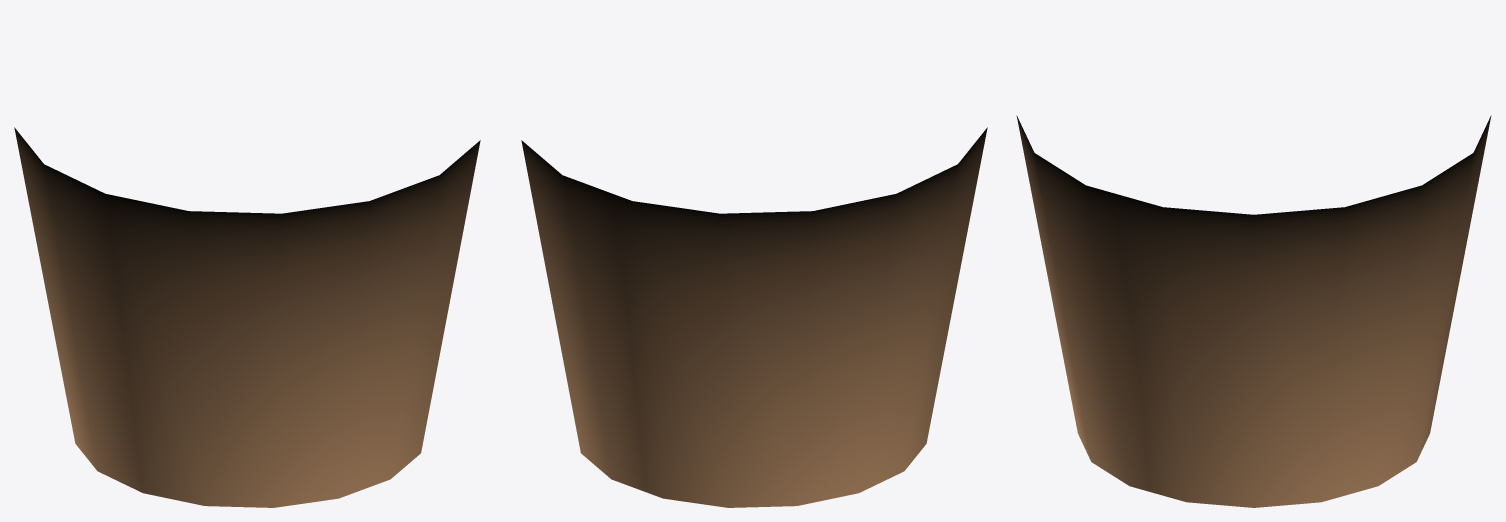
File: circle_orange.glb
3 renders of one model, left to right at view 1: azimuth 30°, elevation 25°; view 2: azimuth 150°, elevation 25°; view 3: azimuth 270°, elevation 25°, orthographic.
Parts seen in each view (by area): view 1: Cylinder; view 2: Cylinder; view 3: Cylinder.
Boxes of the visible parts, x1=… form: Cylinder: x1=14, y1=127, x2=480, y2=507; Cylinder: x1=521, y1=127, x2=987, y2=507; Cylinder: x1=1016, y1=115, x2=1491, y2=507.
Bounding box in the file's own units: 2.7 × 2 × 2.7.
